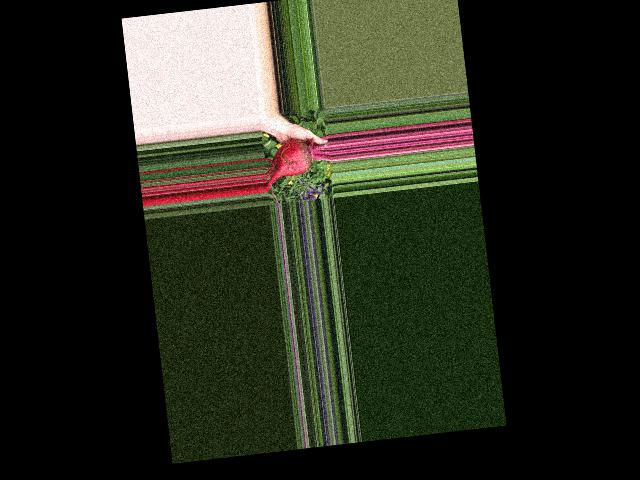beet: (261, 135, 333, 191)
